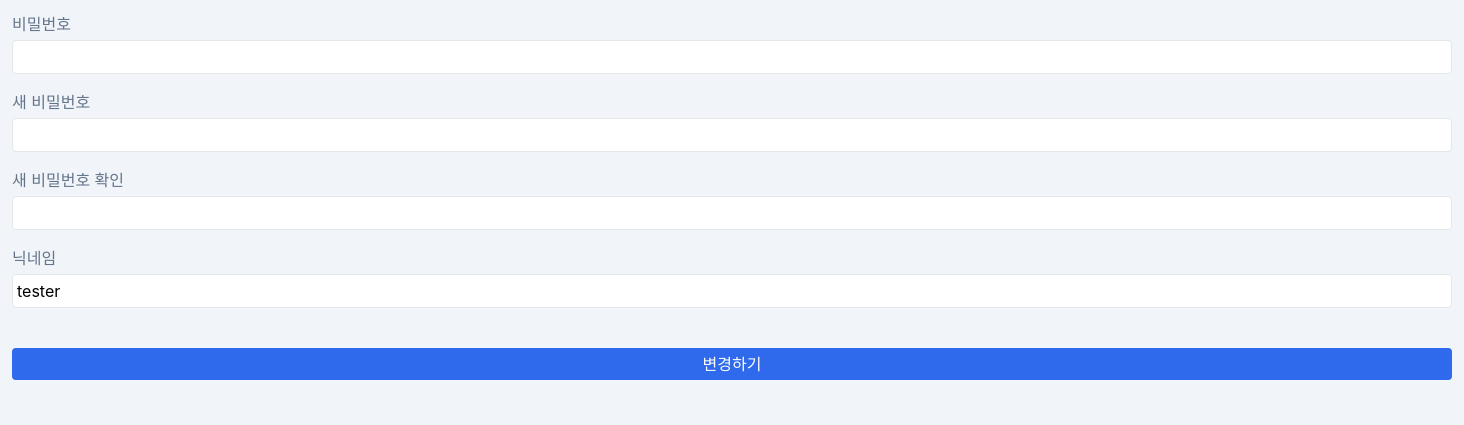
it: EditProfileForm › `비밀번호` 필드를 13자 이상으로 입력하고 `변경하기` 버튼을 누르면 `비밀번호는 최대 12자 이하여야 합니다.` 메시지를 보여준다.
Step 1. Type "newpassword1234" into the password field labelled "비밀번호" → (732, 57), box x1=12 y1=40 x2=1452 y2=74
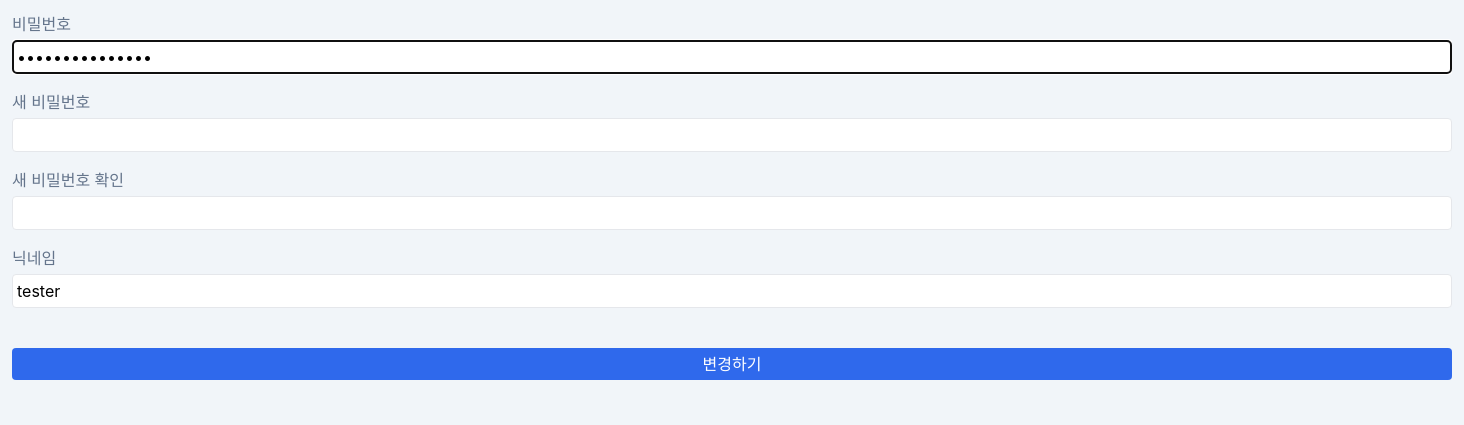
Step 2. Type "newpwd1234" into the password field labelled "새 비밀번호" → (732, 135), box x1=12 y1=118 x2=1452 y2=152
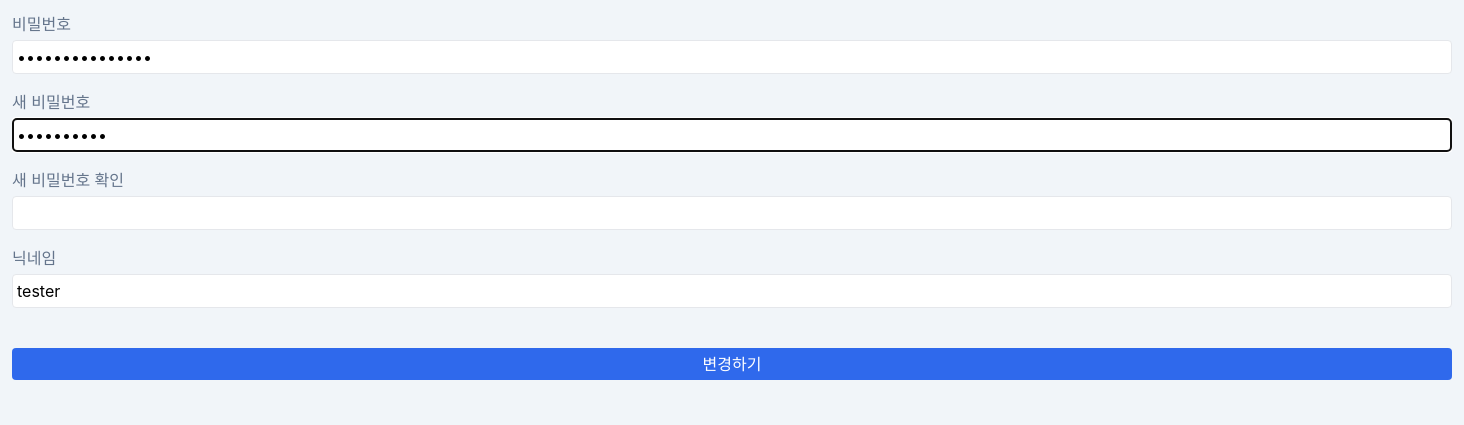
Step 3. Type "newpwd1234" into the password field labelled "새 비밀번호 확인" → (732, 213), box x1=12 y1=196 x2=1452 y2=230
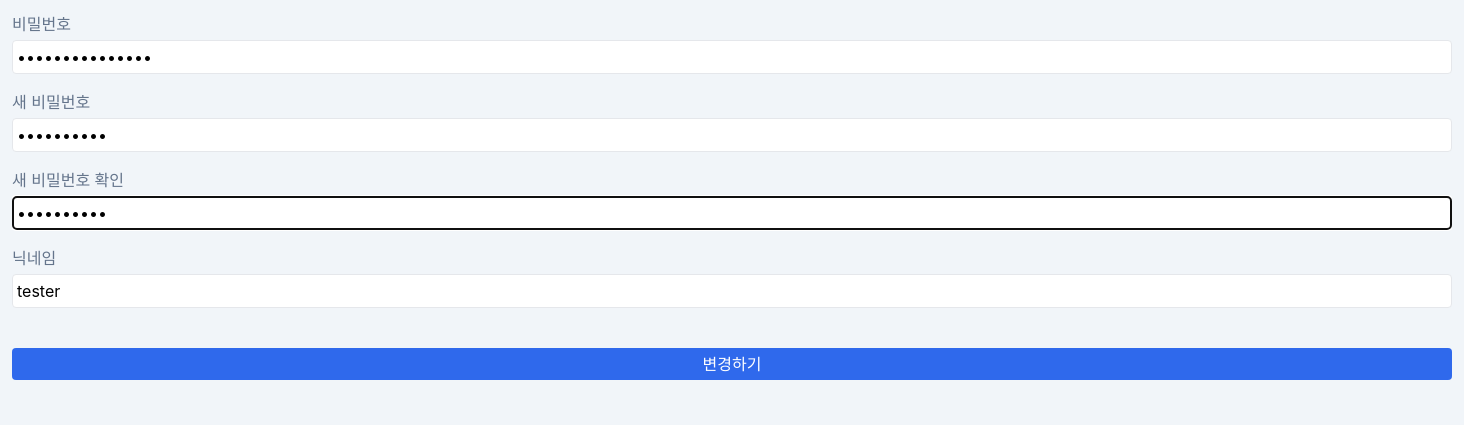
Step 4. Type "tester1234" into the field labelled "닉네임" → (732, 291), box x1=12 y1=274 x2=1452 y2=308
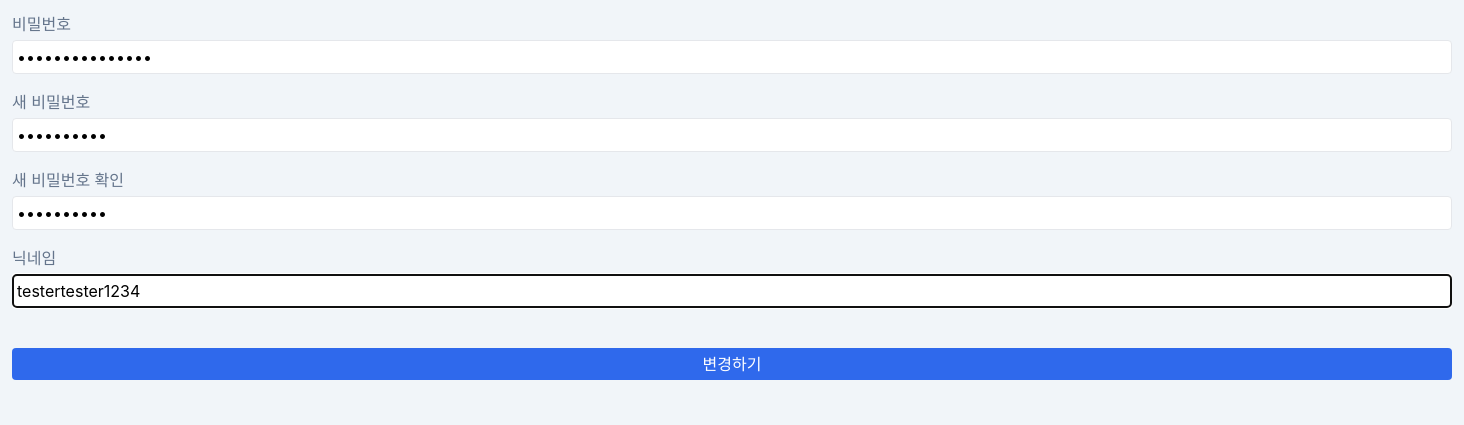
Step 5. Click the button "변경하기" → (732, 364), box x1=12 y1=348 x2=1452 y2=380
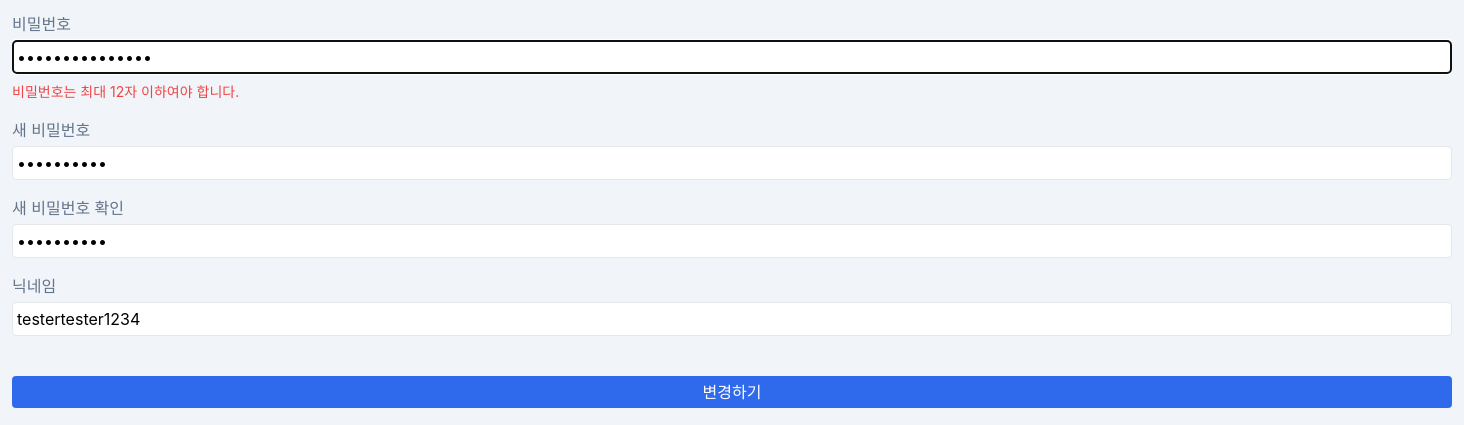
Now the message reads "비밀번호는 최대 12자 이하여야 합니다.", box x1=12 y1=83 x2=239 y2=100
